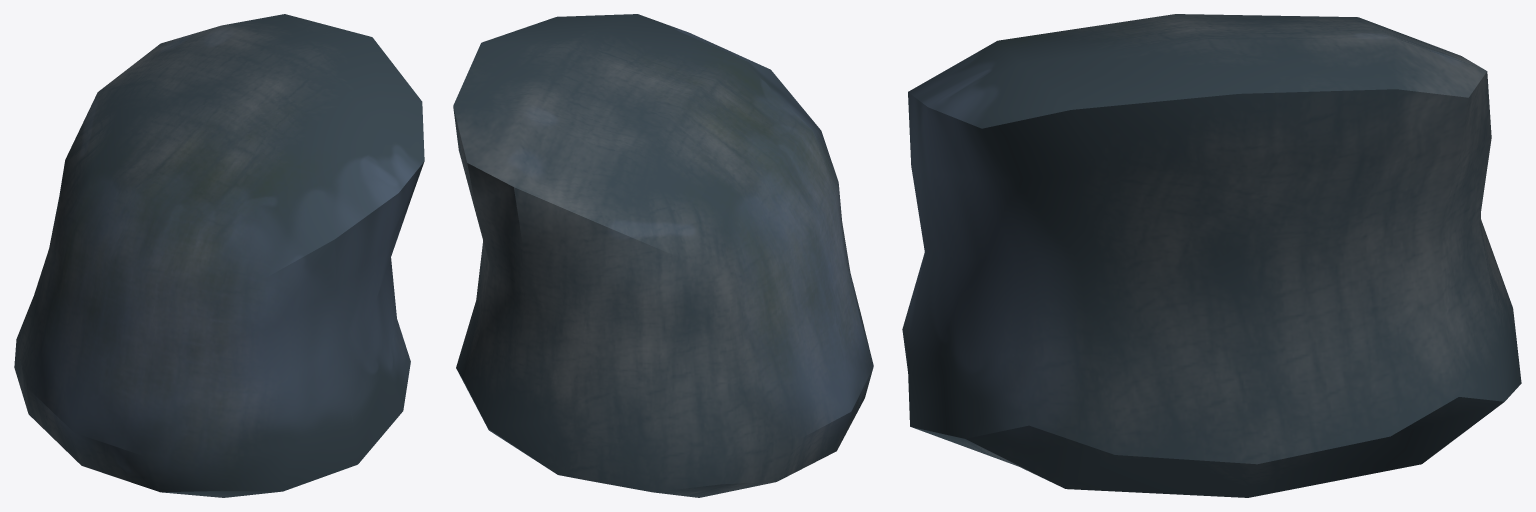
File: piedra03.glb
The picture shows the model from 3 angles, left to right: view 1: azimuth 30°, elevation 25°; view 2: azimuth 150°, elevation 25°; view 3: azimuth 270°, elevation 25°; orthographic projection. The views are drawn at different scales.
Parts seen in each view (by area): view 1: piedra_03-col; view 2: piedra_03-col; view 3: piedra_03-col.
Part boxes in pixels (bbox=[...]): piedra_03-col: bbox=[14, 14, 424, 497]; piedra_03-col: bbox=[453, 14, 873, 497]; piedra_03-col: bbox=[902, 14, 1521, 497].
Size of the model in its own units: 1.07 by 1.12 by 1.28.
Materials: 1 (1 with a texture image).
